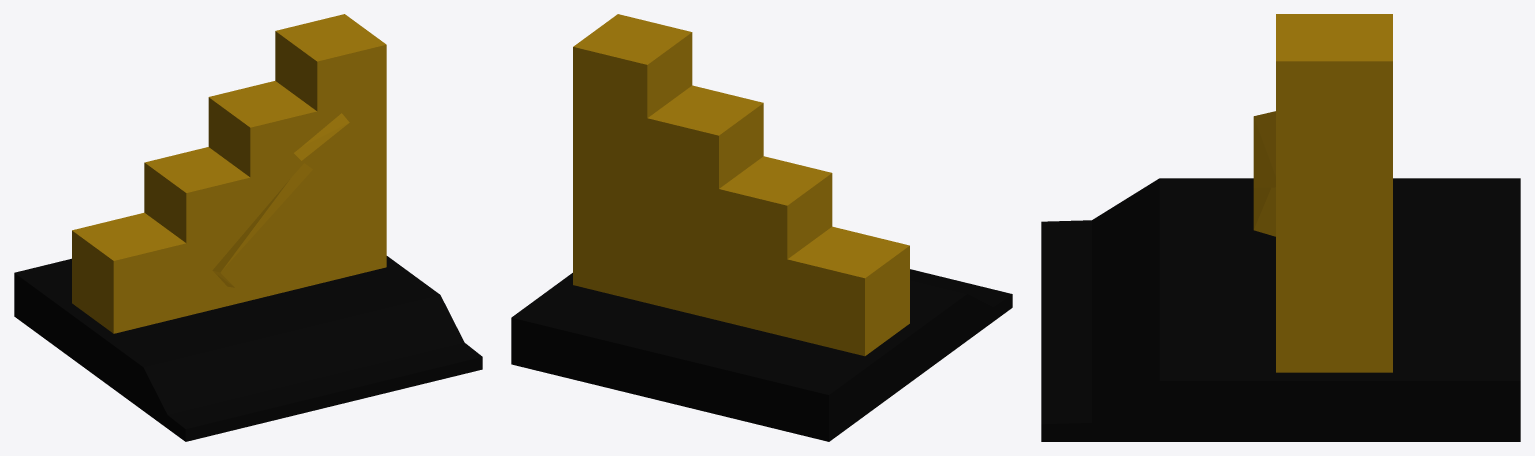
The picture shows the model from 3 angles, left to right: view 1: azimuth 30°, elevation 25°; view 2: azimuth 150°, elevation 25°; view 3: azimuth 270°, elevation 25°; orthographic projection. The views are drawn at different scales.
Parts seen in each view (by area): view 1: Cube, base.027; view 2: Cube, base.027; view 3: base.027, Cube.
Boxes of the visible parts, x1=… form: Cube: x1=72, y1=14, x2=386, y2=333; base.027: x1=14, y1=256, x2=482, y2=441; Cube: x1=573, y1=14, x2=909, y2=356; base.027: x1=511, y1=269, x2=1012, y2=441; base.027: x1=1041, y1=178, x2=1520, y2=441; Cube: x1=1253, y1=14, x2=1392, y2=372.
Size of the model in its own units: 79.88 by 68.46 by 79.88.
